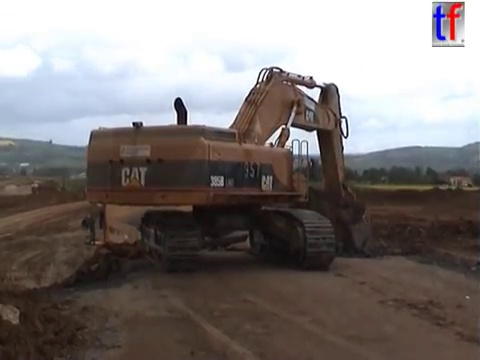excavator: (82, 63, 382, 273)
truck: (78, 196, 250, 278), (29, 178, 62, 197)
